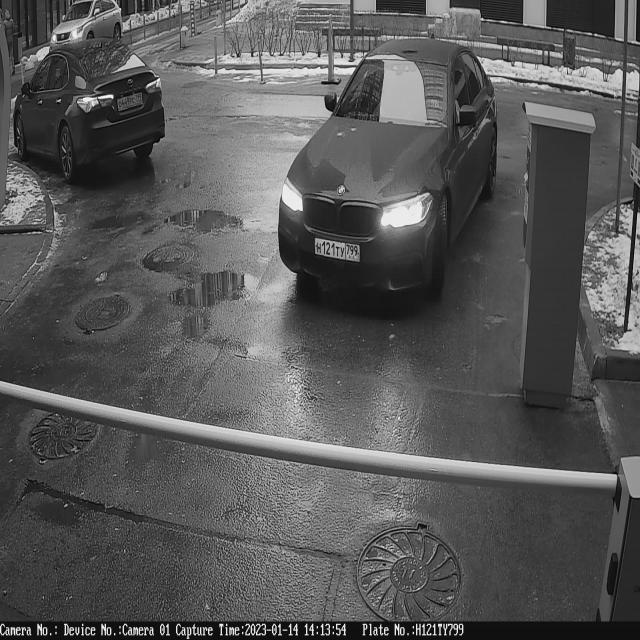car-plate-numbers: (314, 233, 363, 269)
